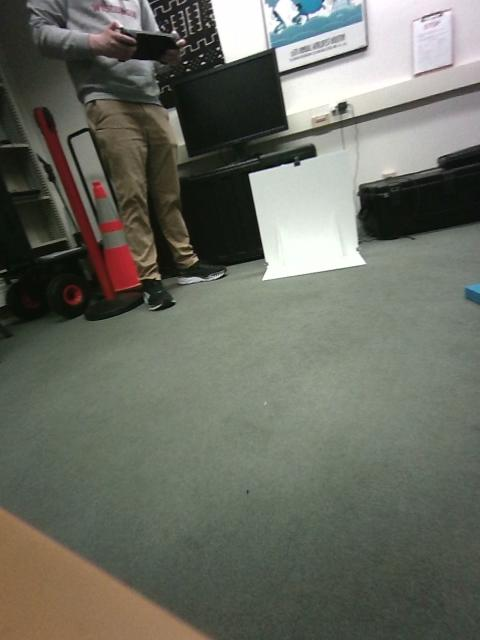block: (292, 451, 385, 569)
